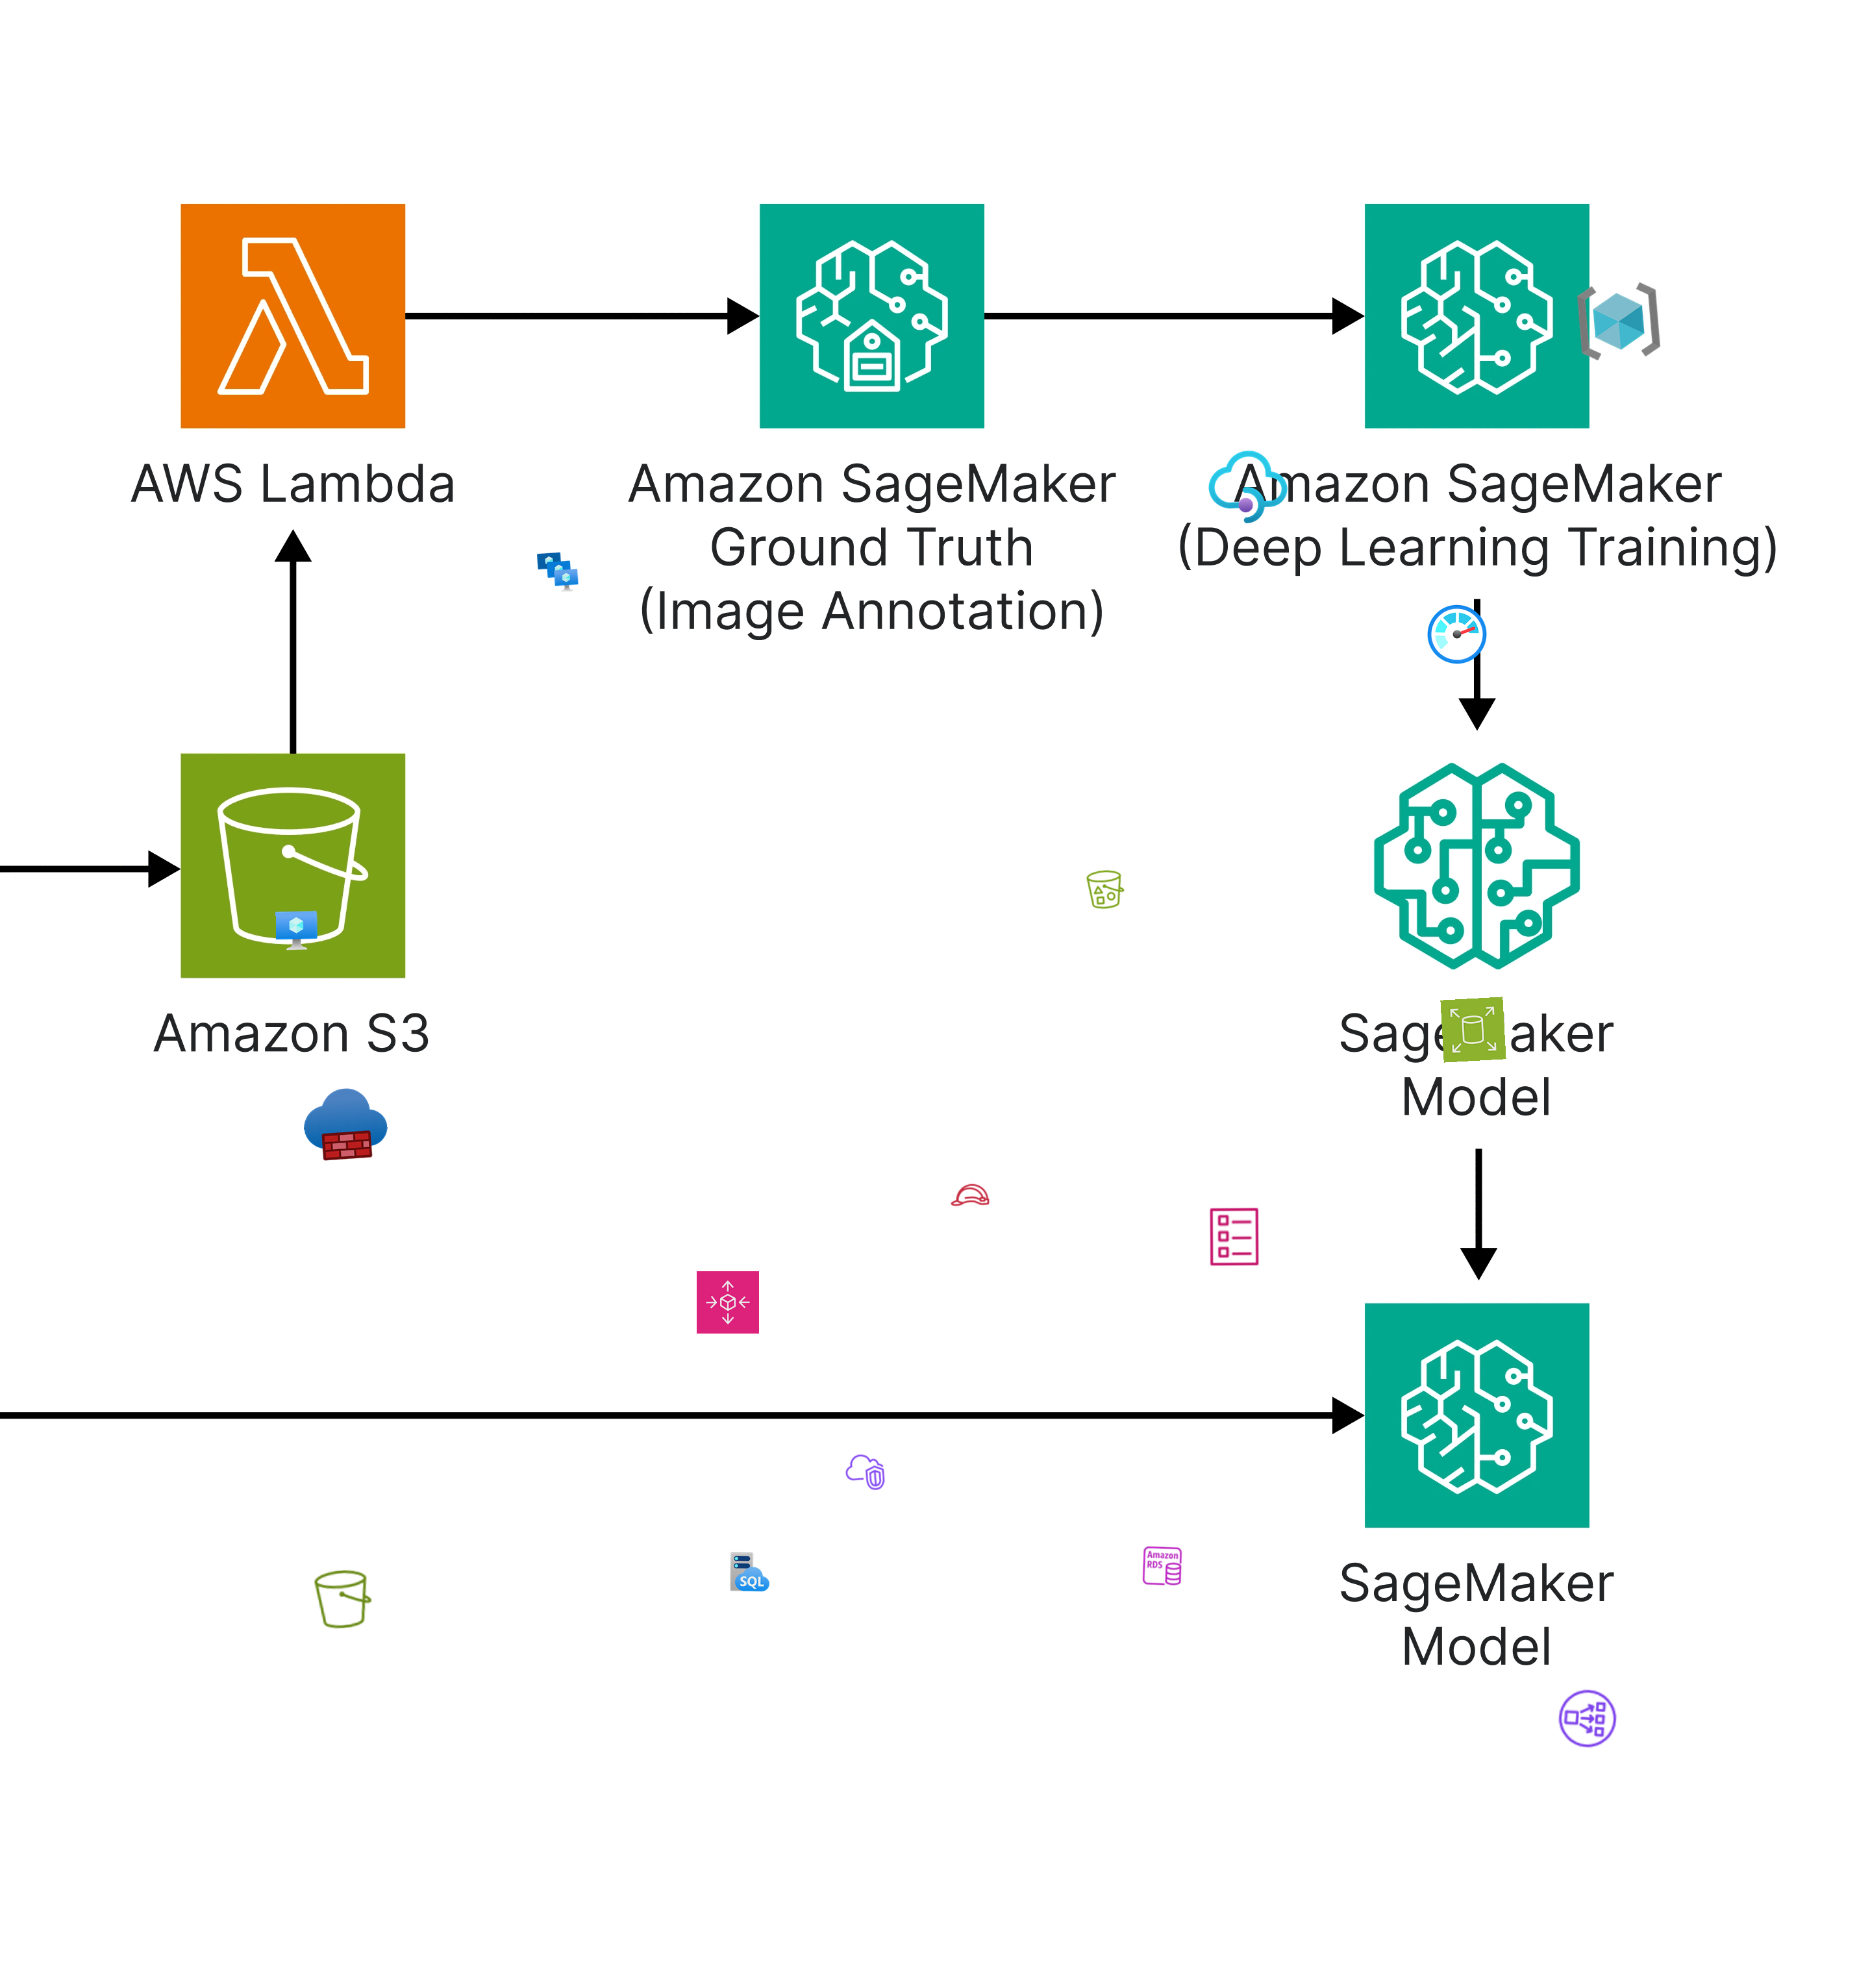aws_amazon_elastic_block_store: (1439, 997, 1506, 1063)
aws_aurora_amazon_rds_instance: (1141, 1543, 1185, 1587)
aws_auto_scaling: (696, 1271, 759, 1334)
aws_cloudformation_template: (1202, 1206, 1265, 1269)
aws_elastic_load_balancing_network_load_balancer: (1554, 1686, 1620, 1752)
aws_identity_access_management_role: (949, 1174, 991, 1216)
aws_simple_storage_service_bucket_with_objects: (1083, 867, 1128, 912)
aws_simple_storage_service_s3_standard: (309, 1566, 378, 1633)
aws_vpc_virtual_private_cloud_vpc: (842, 1450, 888, 1496)
azure_api_management_services: (1204, 443, 1292, 531)
azure_firewalls: (301, 1079, 390, 1169)
azure_monitor: (1425, 603, 1489, 666)
azure_resource_groups: (1573, 276, 1664, 367)
azure_sql_managed_instance: (729, 1550, 772, 1593)
azure_virtual_machine: (276, 911, 318, 953)
azure_vm_scale_sets: (534, 548, 580, 594)
